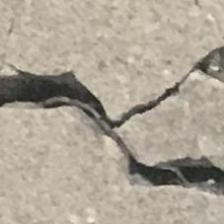Crack: (0, 55, 224, 202)
